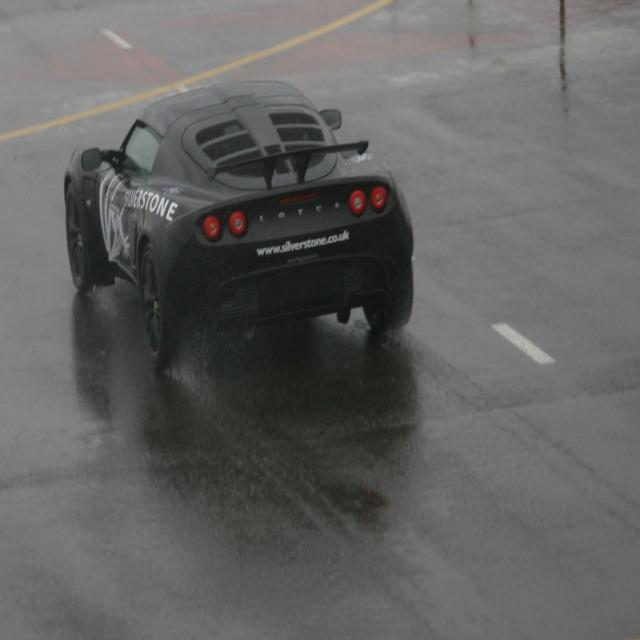car: (64, 80, 413, 370)
